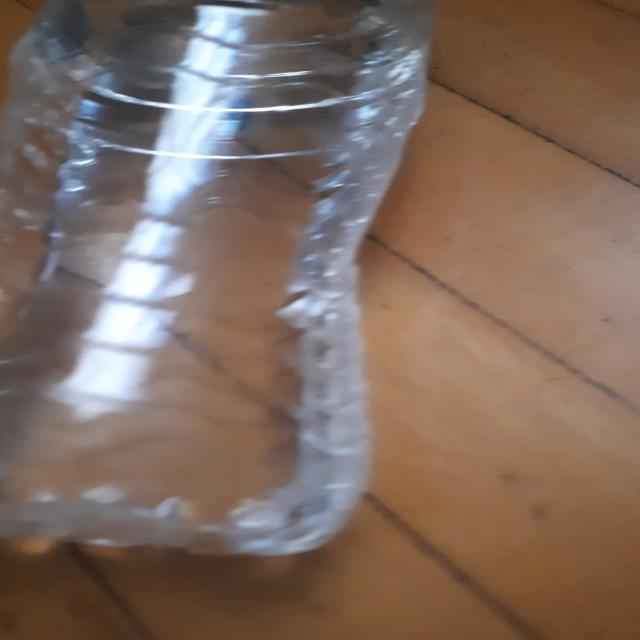Plastic: (0, 3, 436, 553)
